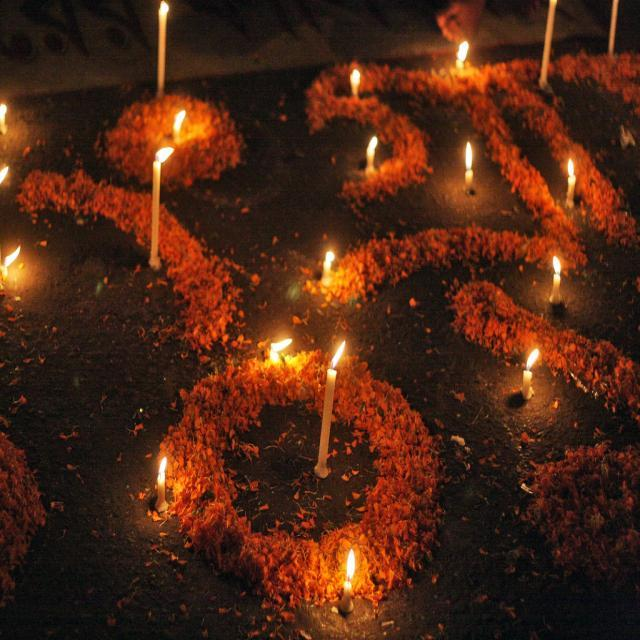Fire: (464, 138, 488, 170), (342, 546, 359, 588), (322, 242, 341, 278), (270, 336, 290, 362), (153, 134, 169, 162), (328, 340, 348, 360)
